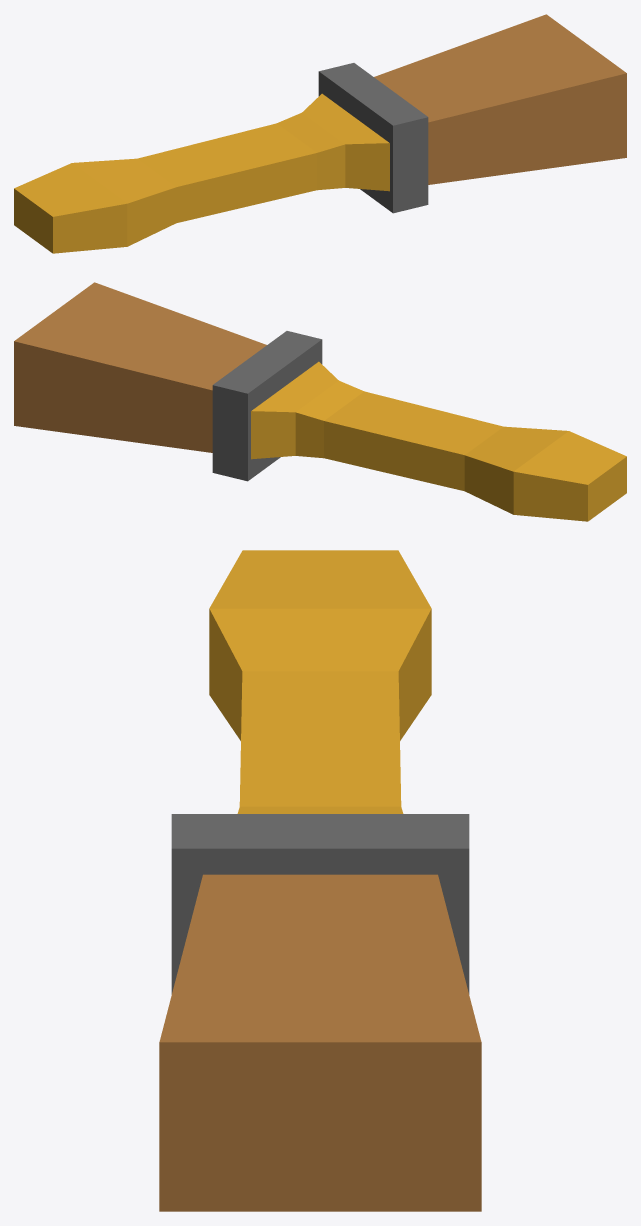
The picture shows the model from 3 angles, top to bottom: view 1: azimuth 30°, elevation 25°; view 2: azimuth 150°, elevation 25°; view 3: azimuth 270°, elevation 25°; orthographic projection. The views are drawn at different scales.
Parts seen in each view (by area): view 1: F-2; view 2: F-2; view 3: F-2.
Boxes of the visible parts, left/top/right/bottom form: F-2: left=14, top=14, right=626, bottom=253; F-2: left=14, top=282, right=626, bottom=521; F-2: left=159, top=550, right=481, bottom=1211.
Bounding box in the file's own units: 55.01 × 8.33 × 13.87.
